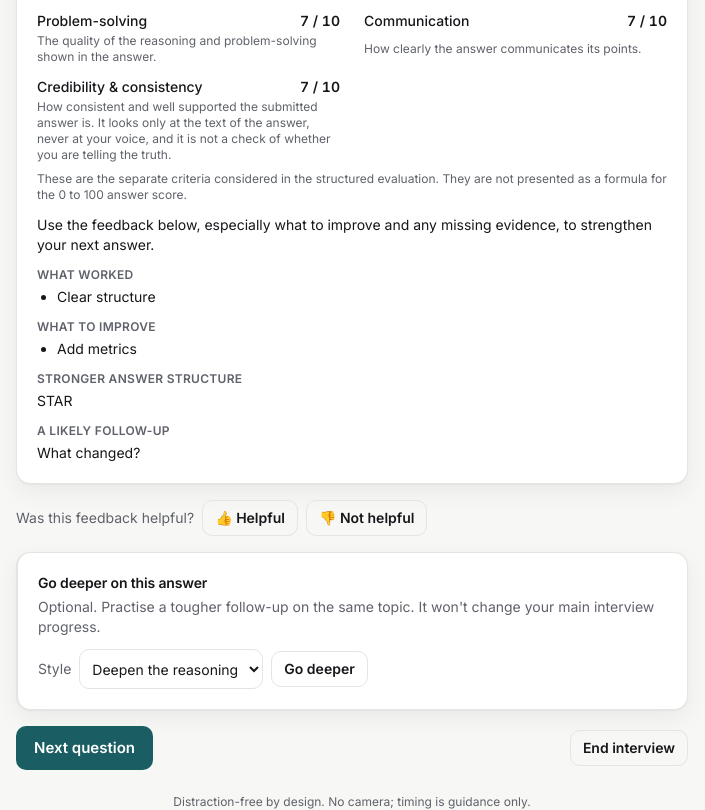
Practice active interview › starts a Deep Dive and answers a branch question
(page scrolled)
Click the button "Go deeper" at [320, 669], box x1=271 y1=651 x2=368 y2=687
(page scrolled)
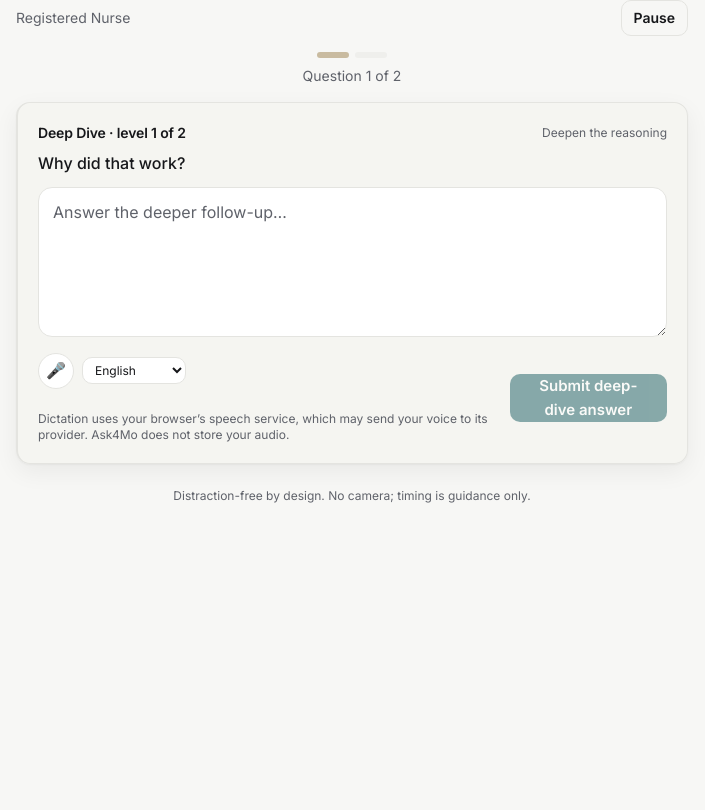
Now the heading "Why did that work?" is shown, box x1=38 y1=153 x2=185 y2=173
